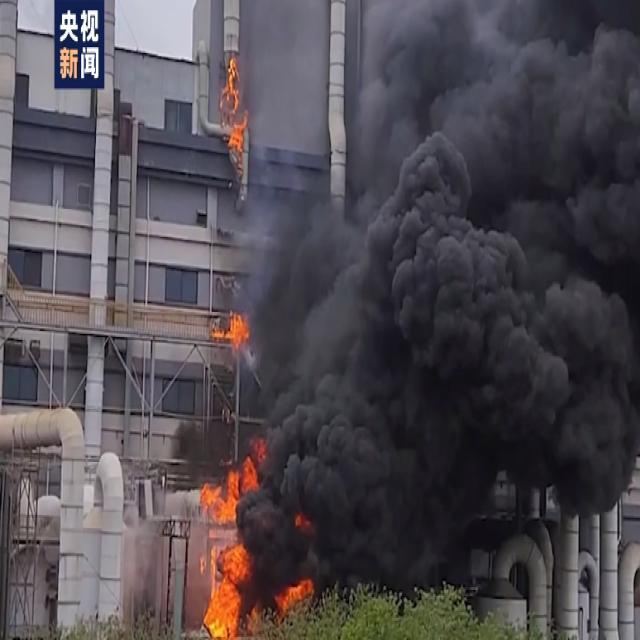Fire: (202, 421, 324, 638), (194, 46, 256, 205), (208, 307, 260, 351), (201, 473, 203, 474)
Smoke: (329, 194, 601, 582), (342, 7, 636, 182), (262, 9, 326, 413)
